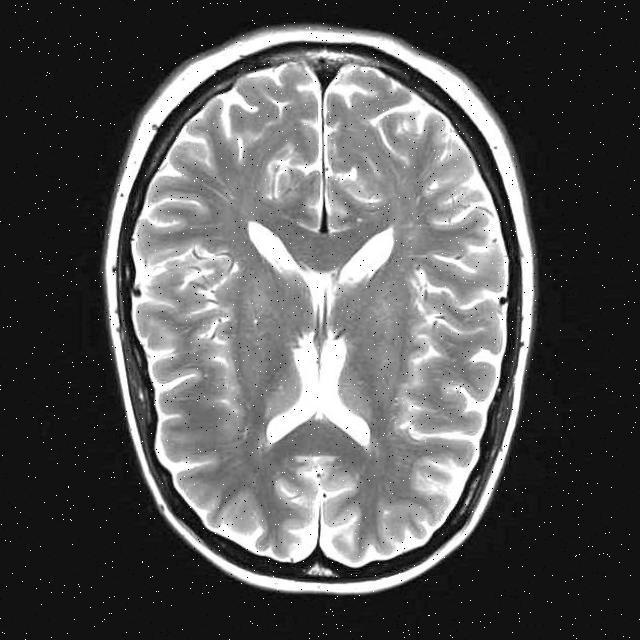No_Tumor: (106, 27, 534, 593)
